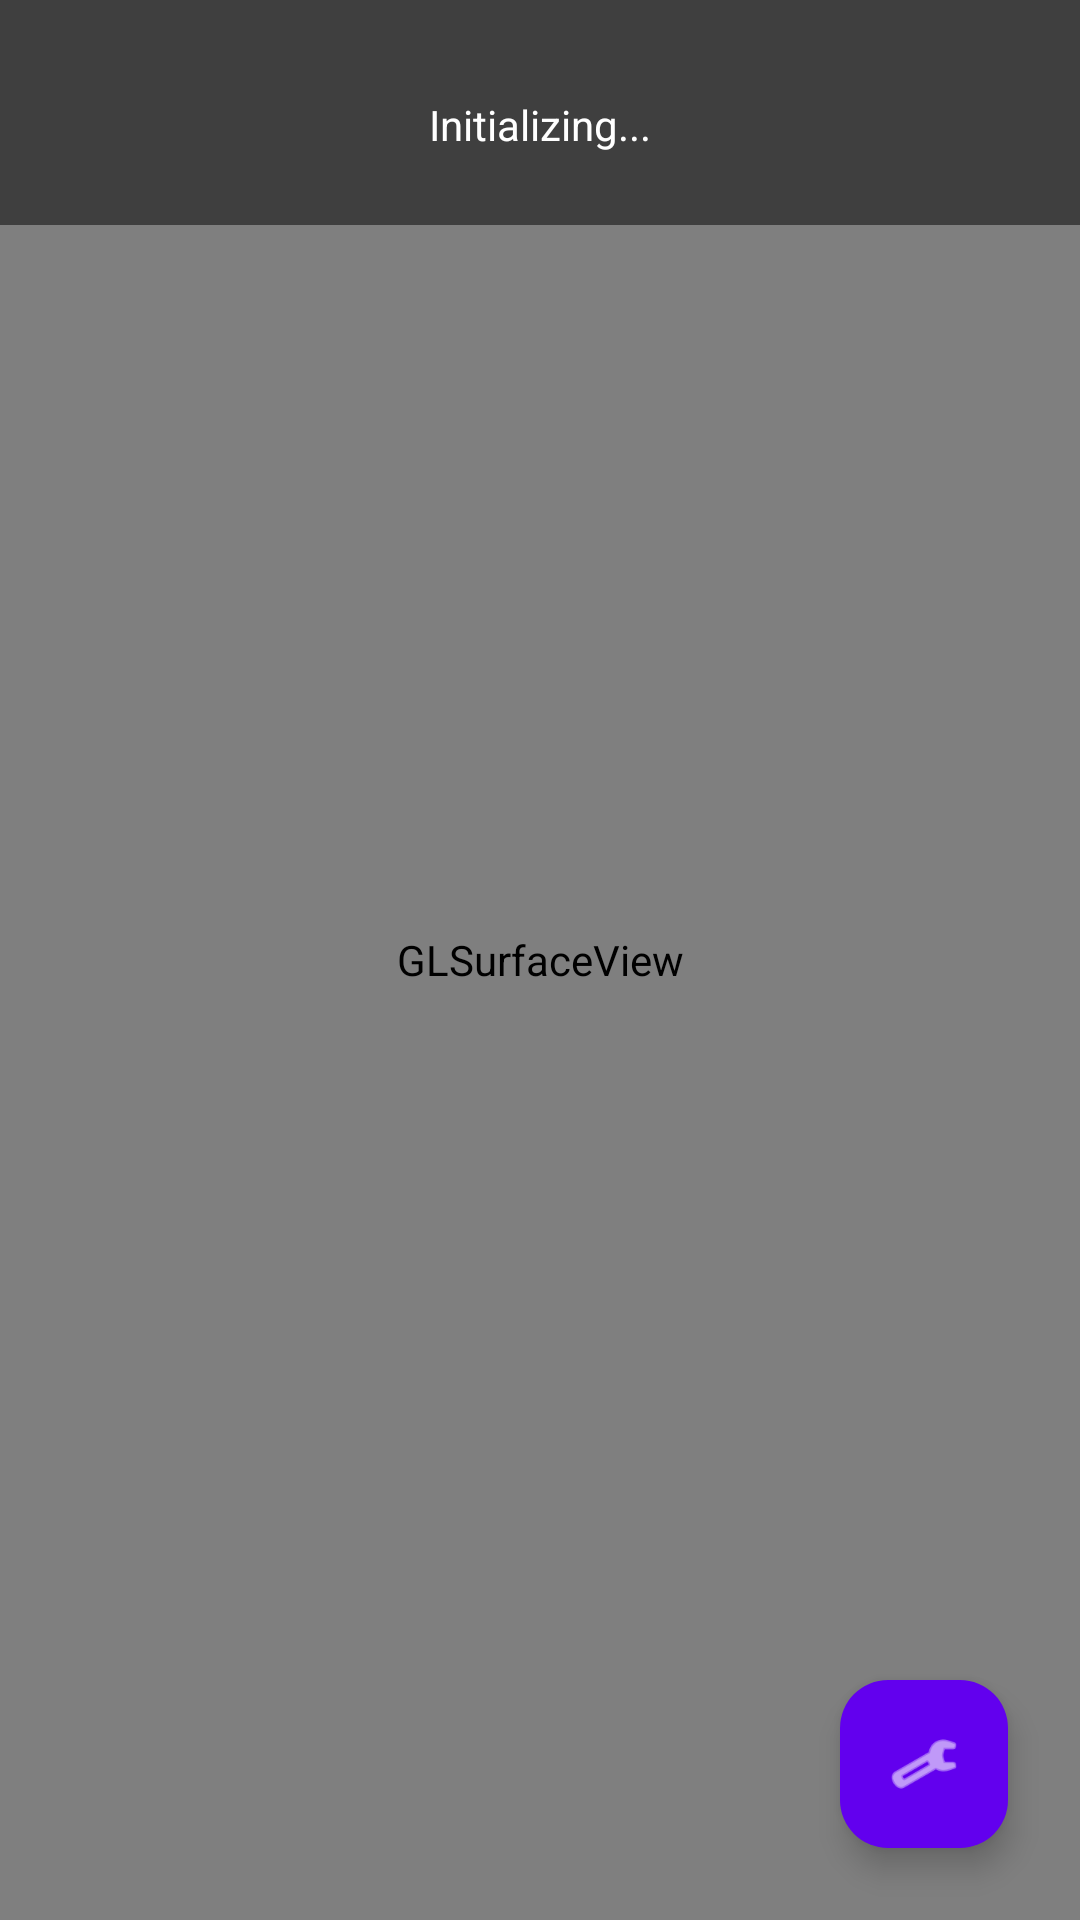

Locate icon controls on the screen. Image size 1080 x 1920, boxes as (x1, y1, x2, y2).
Settings: (840, 1680, 1008, 1848)
